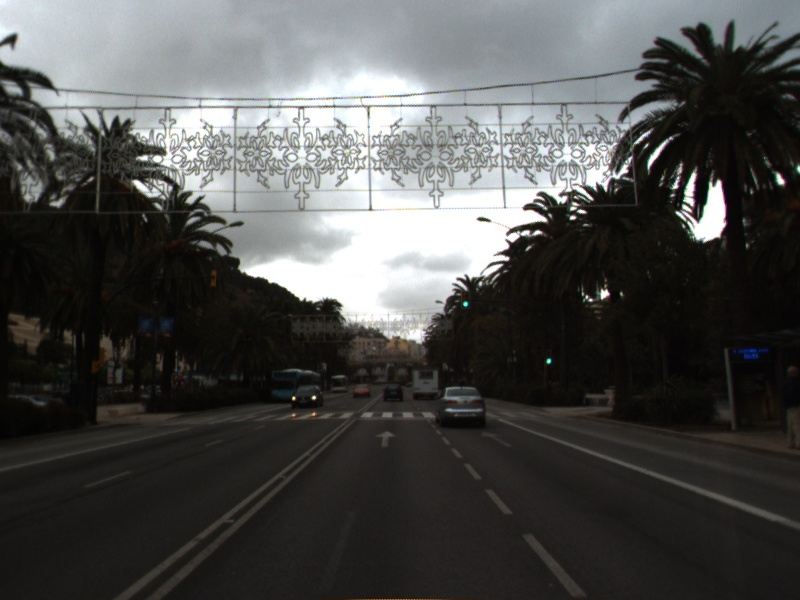STRAIGHT: (479, 429, 516, 449), (373, 428, 401, 450)
